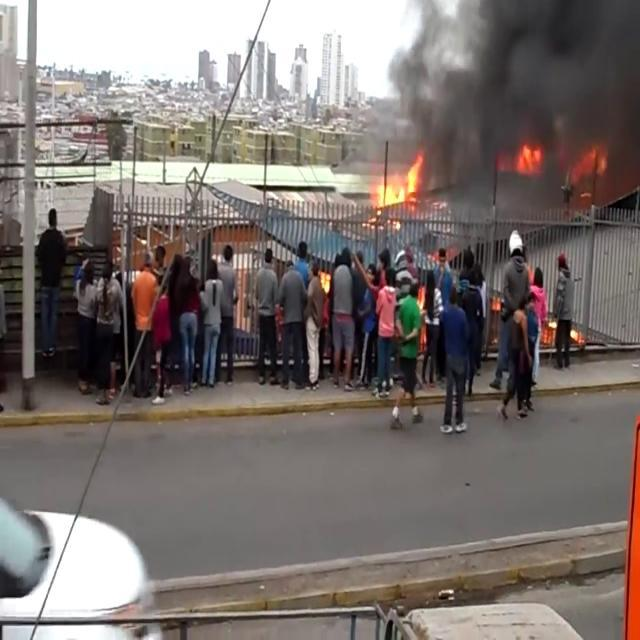Fire: (368, 153, 426, 219), (512, 134, 544, 178)
Smoke: (372, 0, 640, 194)
